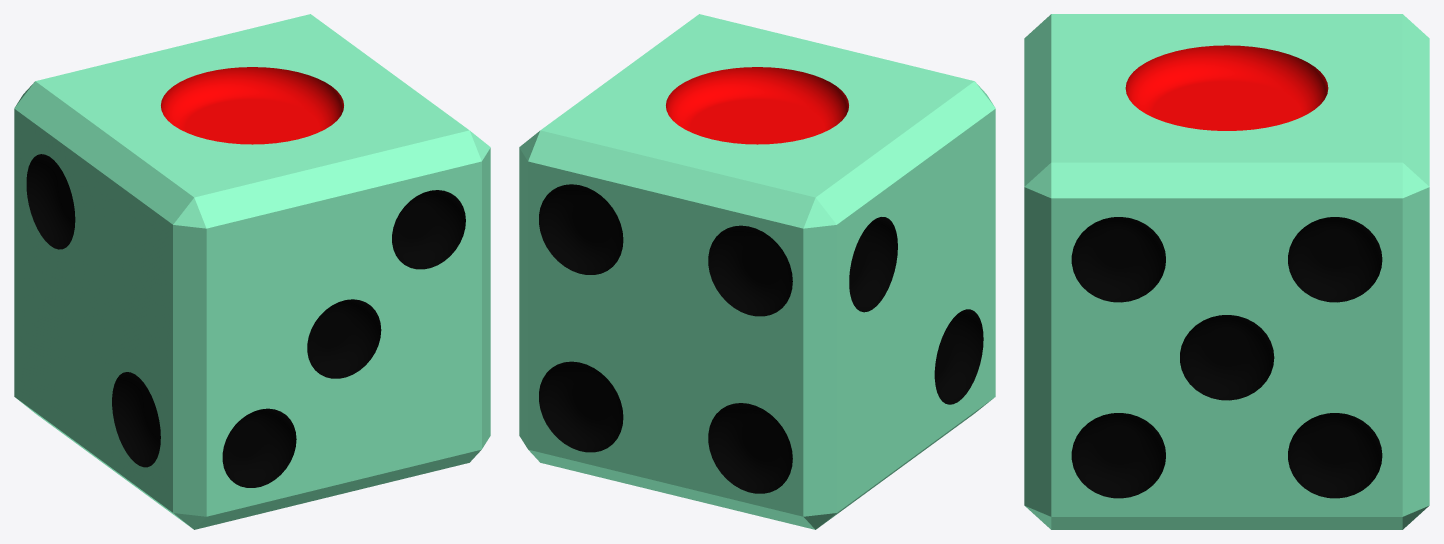
File: saikoro.glb
3 views of the same model, side by side, from view 1: azimuth 30°, elevation 25°; view 2: azimuth 150°, elevation 25°; view 3: azimuth 270°, elevation 25° (orthographic). The views are drawn at different scales.
Visible parts, largest first — view 1: さいころ; view 2: さいころ; view 3: さいころ.
Part boxes in pixels (x1,y1,x2,y2): さいころ: (14,14,490,529); さいころ: (519,14,995,529); さいころ: (1024,14,1429,529).
Bounding box in the file's own units: 0.03 × 0.03 × 0.03.
